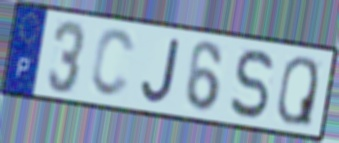3: (46, 17, 87, 96)
6: (183, 39, 226, 116)
C: (88, 26, 137, 101)
J: (140, 36, 183, 106)
Q: (275, 54, 320, 129)
S: (228, 47, 276, 122)
